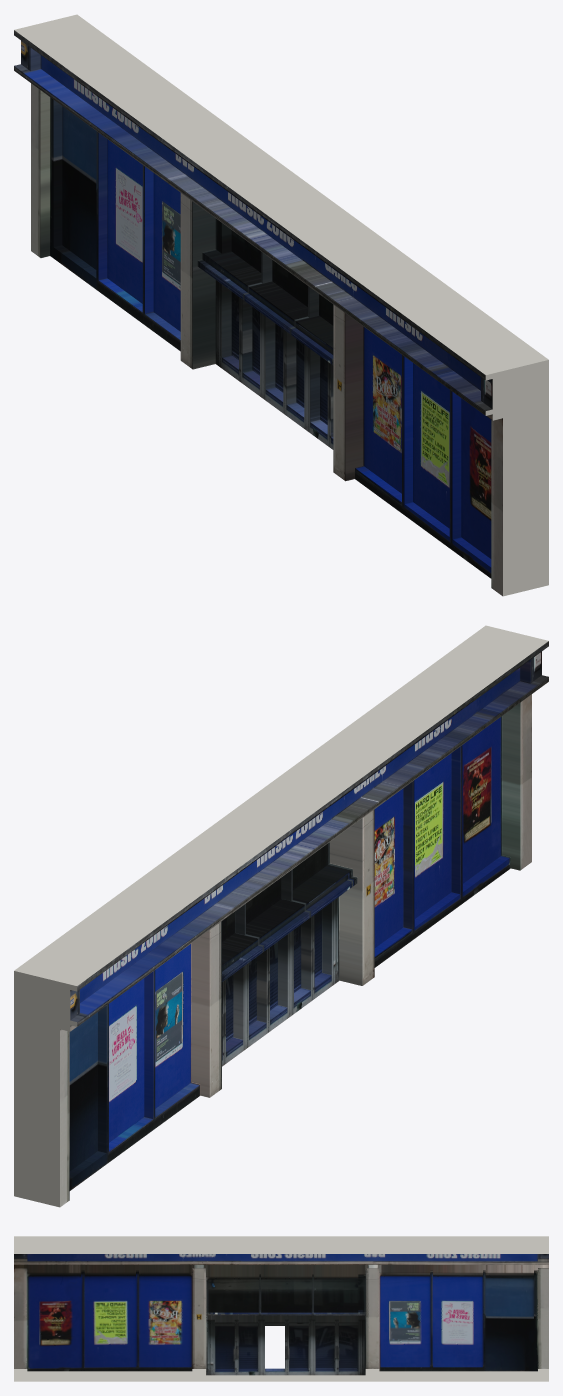
Rendered from bas_facade6.fbx.
3 renders of one model, top to bottom at view 1: azimuth 30°, elevation 25°; view 2: azimuth 150°, elevation 25°; view 3: azimuth 270°, elevation 25°, orthographic. The views are drawn at different scales.
Visible parts, largest first — view 1: bas_facade6.001; view 2: bas_facade6.001; view 3: bas_facade6.001.
Part boxes in pixels (box(x1,y1,x2,y2)): bas_facade6.001: box(14, 14, 548, 596); bas_facade6.001: box(14, 625, 548, 1207); bas_facade6.001: box(14, 1236, 548, 1381).
Bounding box in the file's own units: 5.2 × 17.71 × 67.17.
Materials: 2 (2 with a texture image).
